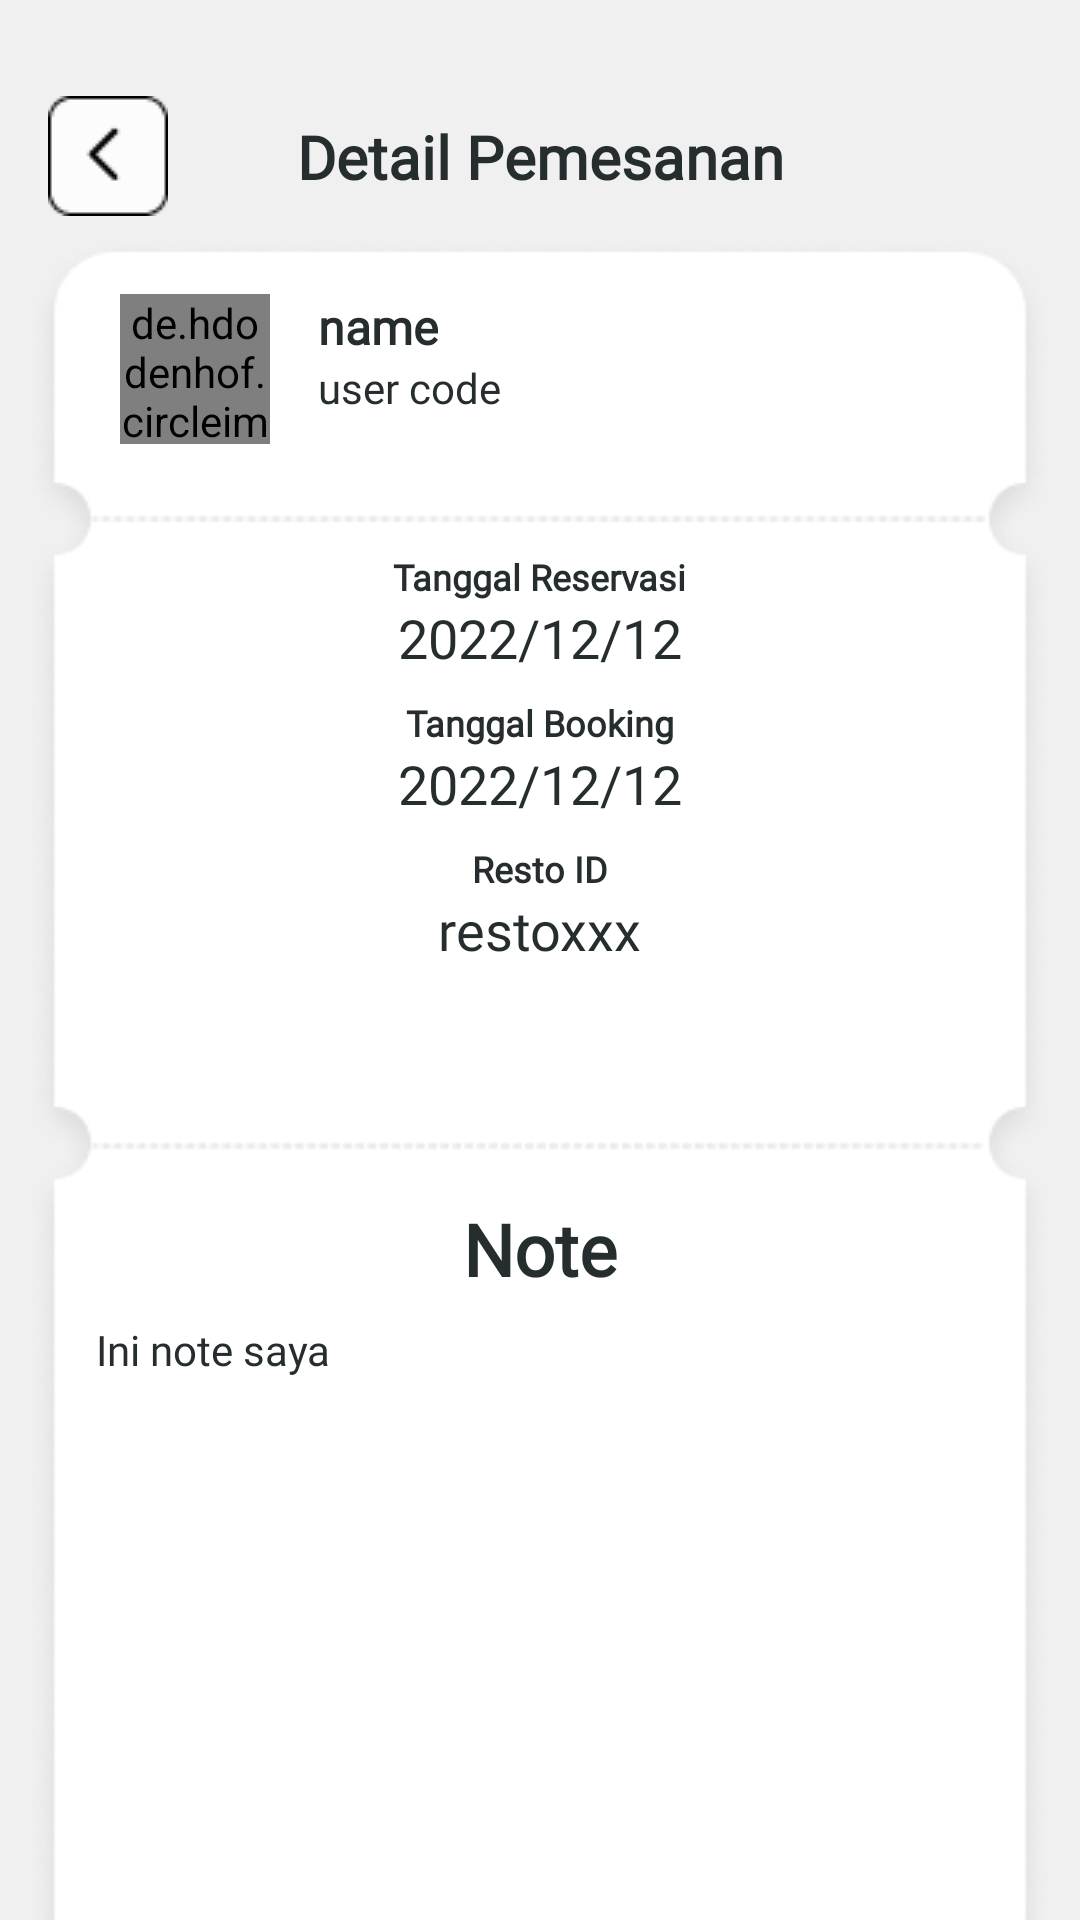

Icons on this 1080x1920 Android screen, each with the point to tap as (x=x, y=y):
back: (x=108, y=156)
